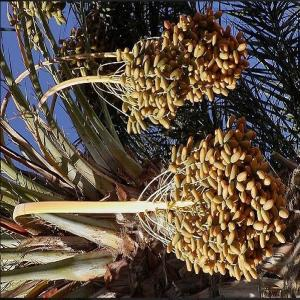palm tree: (1, 1, 298, 296)
